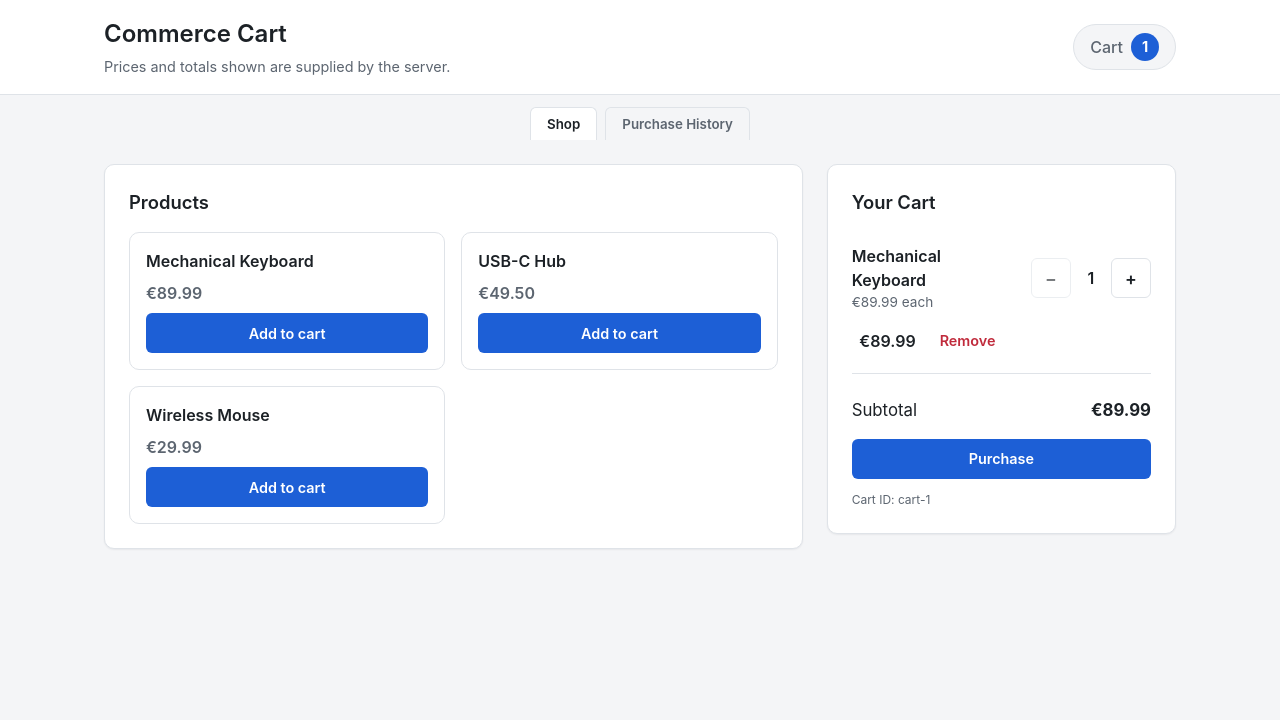
Test: Commerce Cart application › removes a Cart item
Click the button "Remove": click(968, 341) [932, 321, 1004, 361]
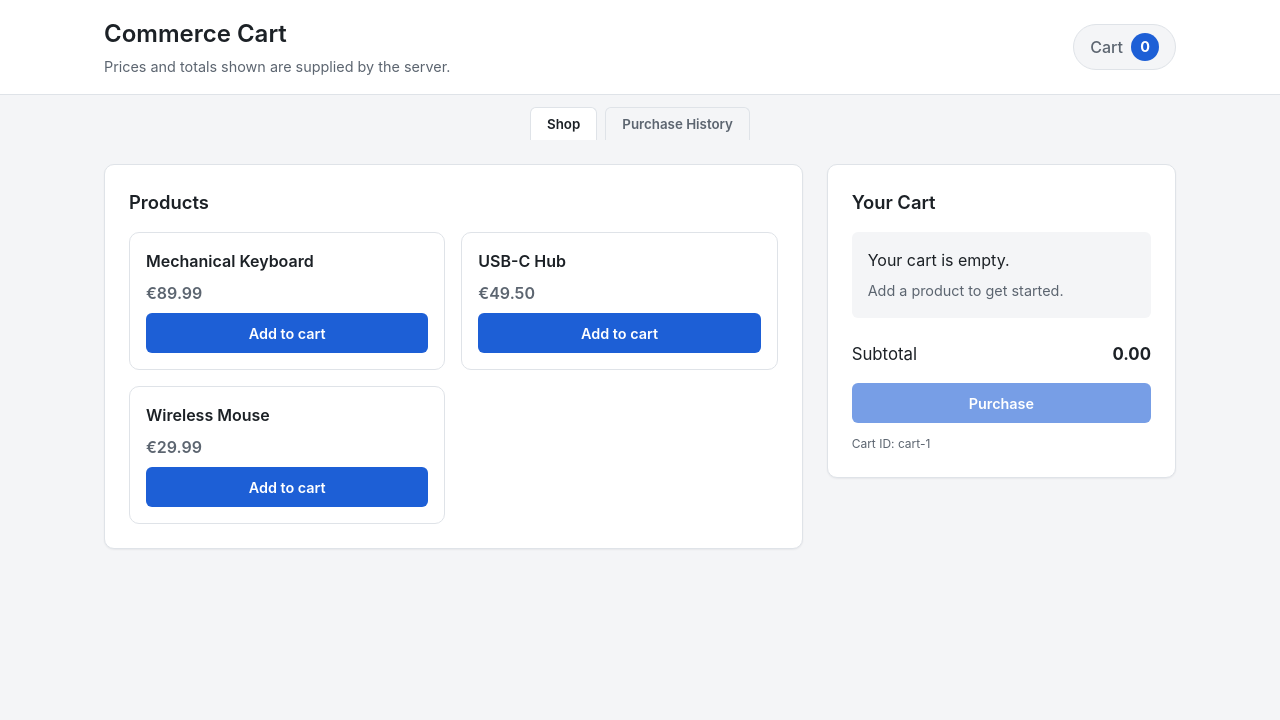
Result: the text "Your cart is empty." is shown at [868, 248, 1010, 272]
